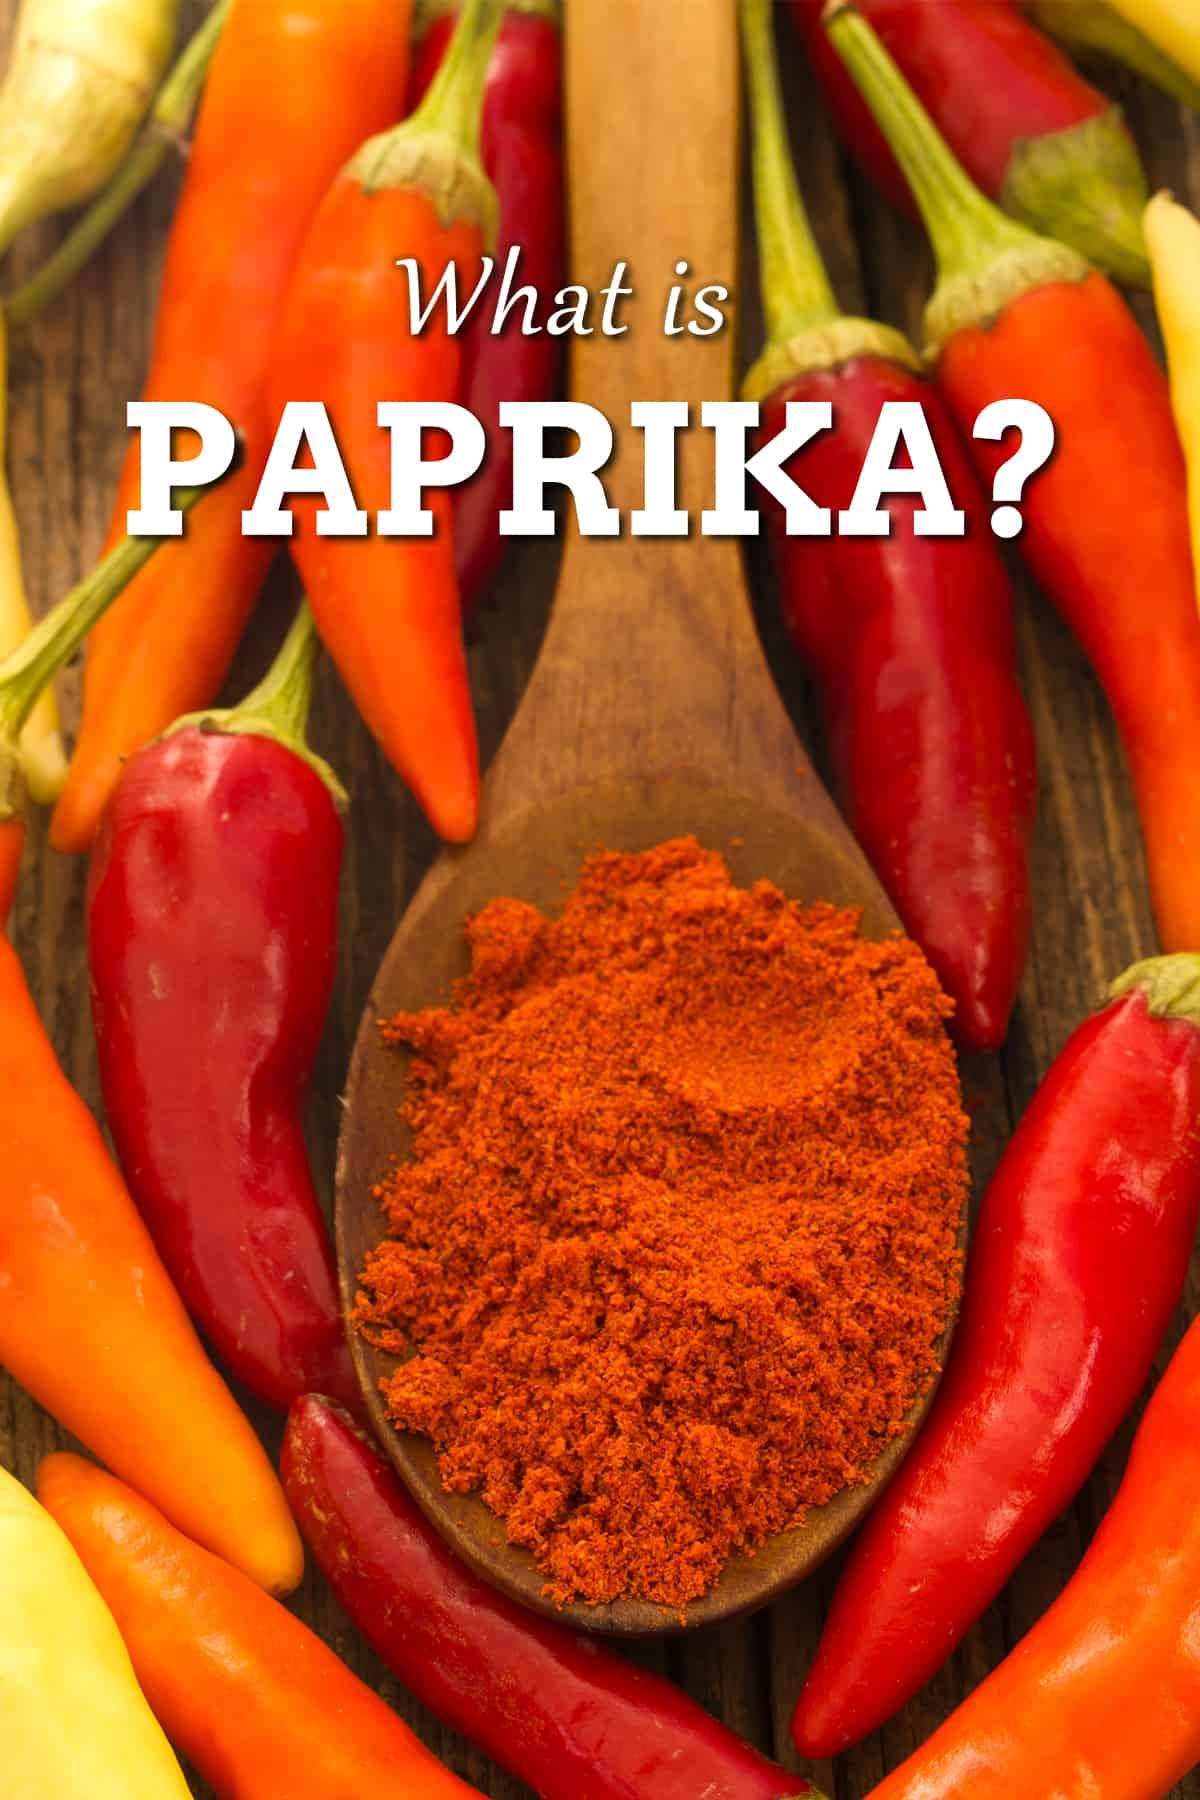paprika: (3, 3, 1196, 1795), (346, 830, 974, 1625), (816, 1, 1199, 956), (786, 950, 1197, 1764), (734, 0, 1041, 1051), (46, 1, 412, 856), (275, 1389, 826, 1796), (83, 595, 354, 1410), (250, 1, 510, 845), (1, 929, 307, 1599), (858, 1308, 1197, 1796), (29, 1448, 492, 1796), (0, 1462, 196, 1796)
